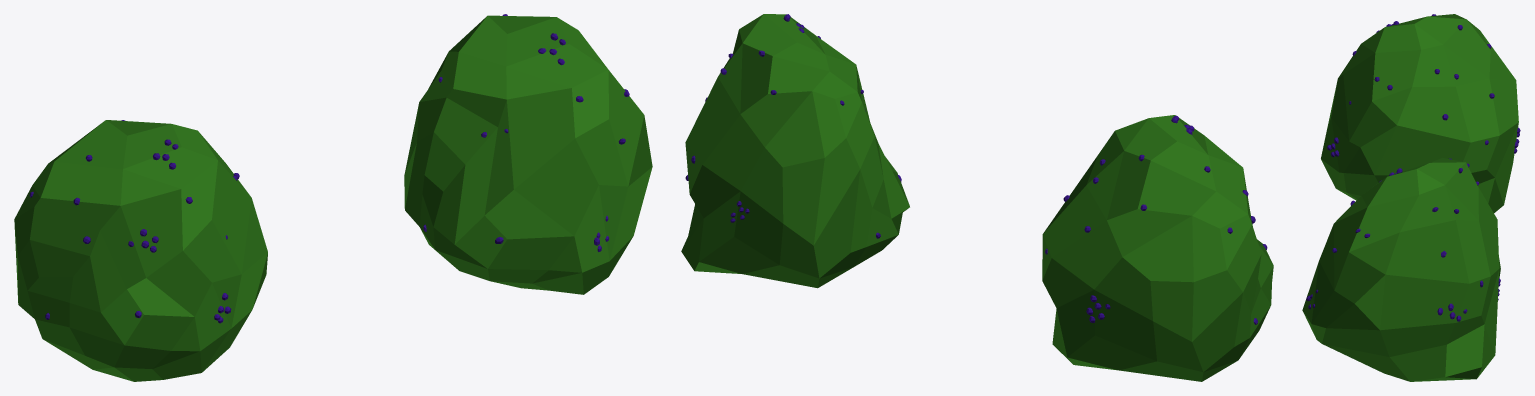
The model's file is BlueberryBush1.fbx.
3 views of the same model, side by side, from view 1: azimuth 30°, elevation 25°; view 2: azimuth 150°, elevation 25°; view 3: azimuth 270°, elevation 25° (orthographic). The views are drawn at different scales.
Parts seen in each view (by area): view 1: Blueberry.001, Blueberry.040; view 2: Blueberry.040, Blueberry.001; view 3: Blueberry.001, Blueberry.040.
Boxes of the visible parts, x1,y1,x2,y2 form: Blueberry.001: (404, 14, 652, 294); Blueberry.040: (14, 120, 267, 381); Blueberry.040: (1042, 115, 1273, 381); Blueberry.001: (681, 14, 909, 288); Blueberry.001: (1302, 157, 1500, 381); Blueberry.040: (1321, 14, 1520, 212).
Bounding box in the file's own units: 554 × 228 × 222.
